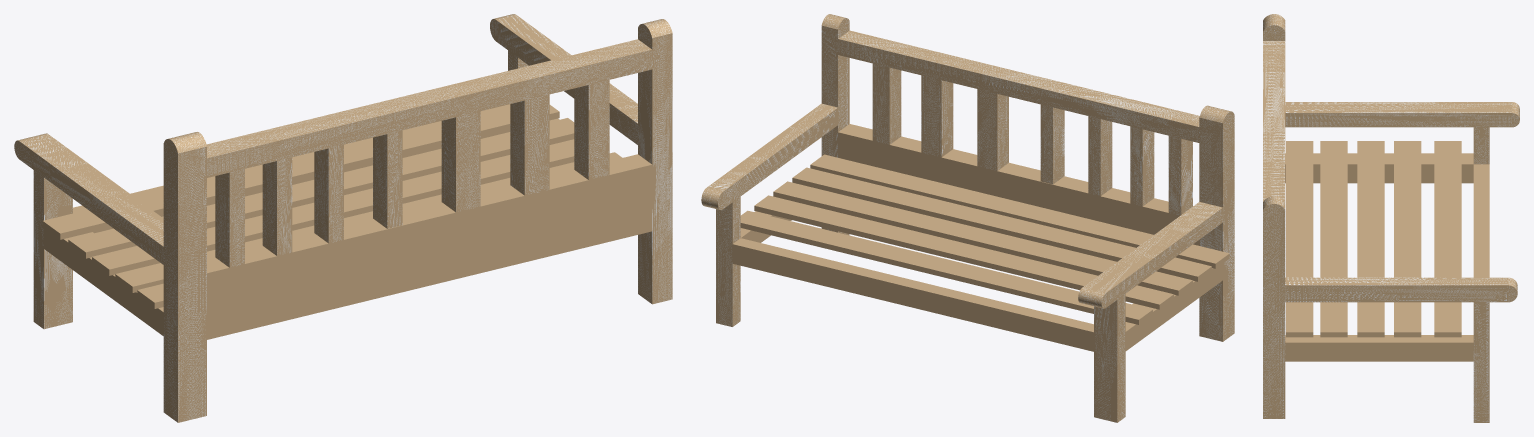
3 views of the same model, side by side, from view 1: azimuth 30°, elevation 25°; view 2: azimuth 150°, elevation 25°; view 3: azimuth 270°, elevation 25° (orthographic). The views are drawn at different scales.
Parts seen in each view (by area): view 1: mesh5_mesh5-geometry, mesh1_mesh1-geometry, mesh3_mesh3-geometry; view 2: mesh5_mesh5-geometry, mesh3_mesh3-geometry, mesh1_mesh1-geometry; view 3: mesh3_mesh3-geometry, mesh5_mesh5-geometry, mesh1_mesh1-geometry.
Part boxes in pixels (x1,y1,x2,y2): mesh5_mesh5-geometry: (14, 14, 672, 422); mesh1_mesh1-geometry: (44, 104, 652, 339); mesh3_mesh3-geometry: (42, 105, 622, 308); mesh5_mesh5-geometry: (701, 14, 1234, 422); mesh3_mesh3-geometry: (740, 154, 1229, 324); mesh1_mesh1-geometry: (732, 124, 1222, 351); mesh3_mesh3-geometry: (1286, 141, 1461, 337); mesh5_mesh5-geometry: (1263, 14, 1519, 422); mesh1_mesh1-geometry: (1285, 153, 1489, 361).
Bounding box in the file's own units: 0.7893 × 0.4231 × 0.4449.
